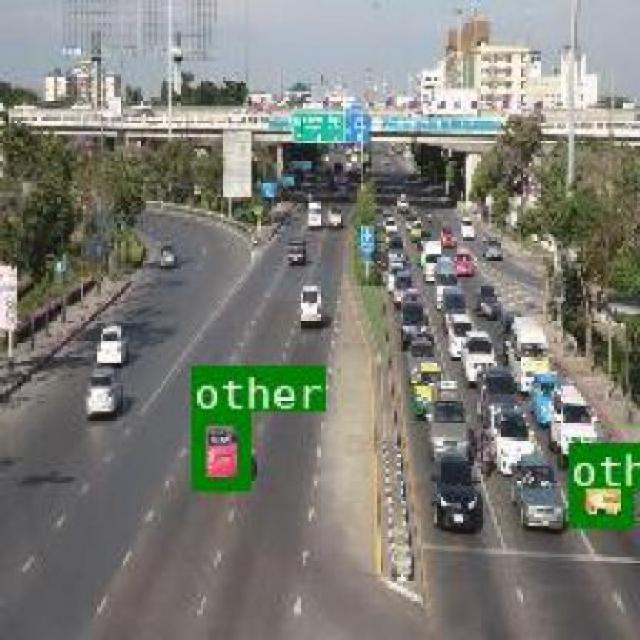other: (566, 442, 628, 524), (190, 410, 247, 488)
